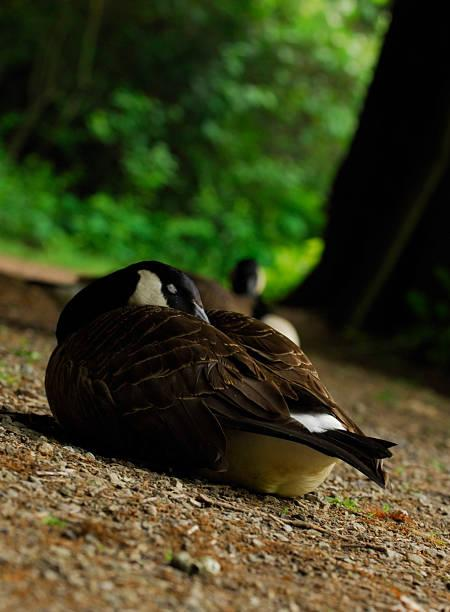Canadian-Goose: (46, 259, 395, 498)
